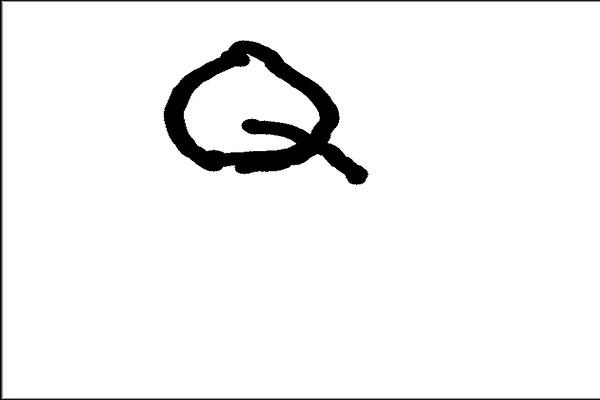Q: (158, 27, 368, 192)
